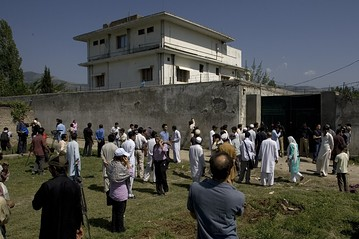person: (175, 145, 255, 239), (102, 121, 141, 231), (38, 156, 86, 235), (307, 118, 356, 191), (147, 121, 175, 193), (55, 115, 105, 155), (246, 123, 276, 184), (1, 162, 17, 238), (282, 128, 303, 185), (187, 125, 208, 178), (32, 119, 51, 163), (16, 119, 31, 159), (212, 122, 238, 142), (2, 124, 14, 152)
